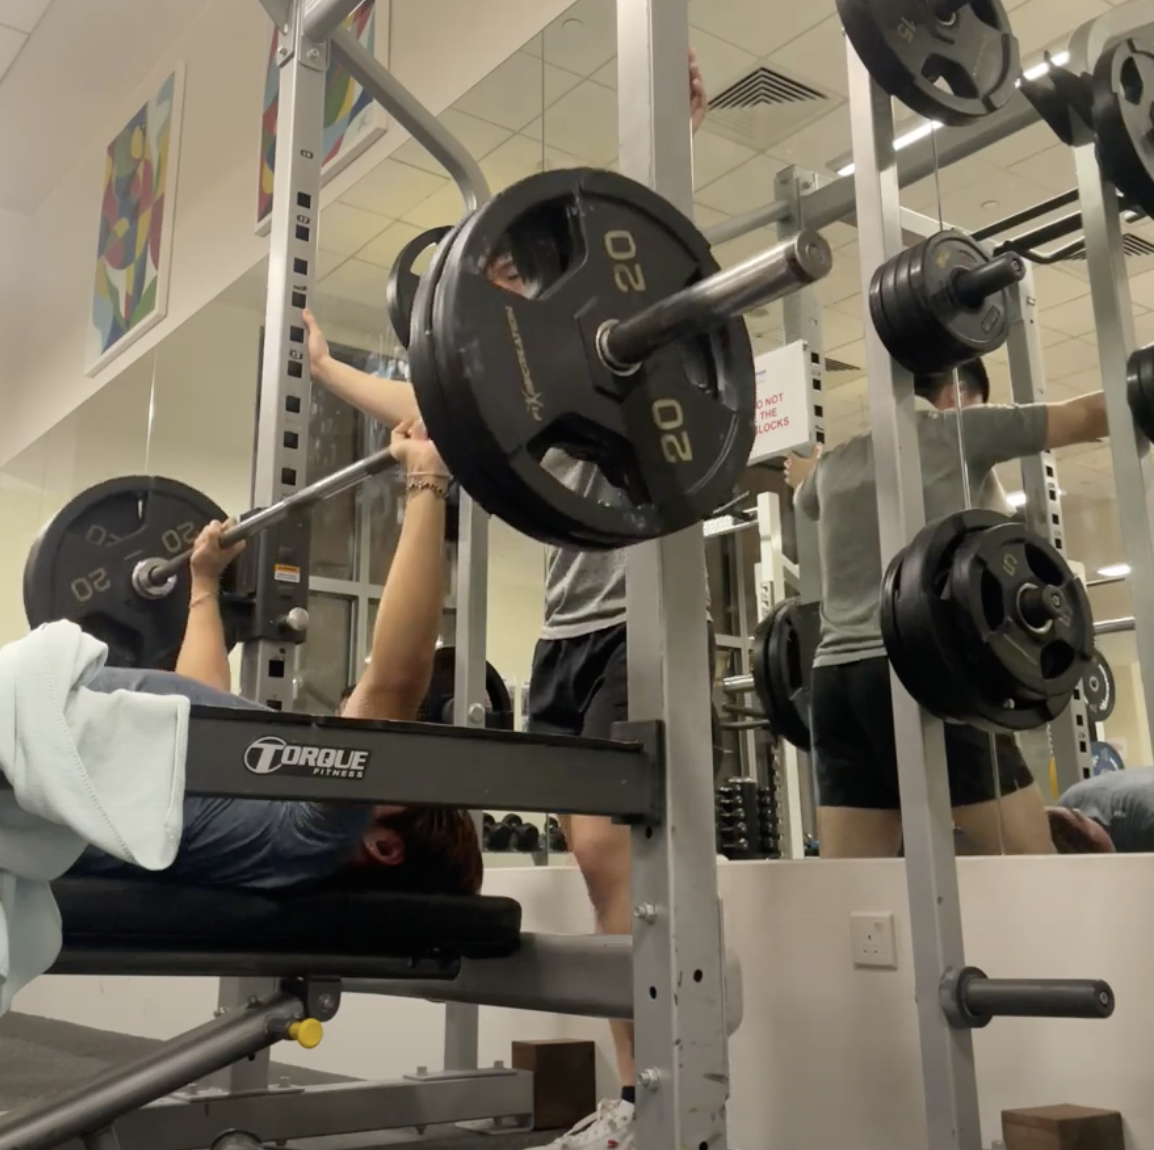barbell: (802, 217, 842, 277)
